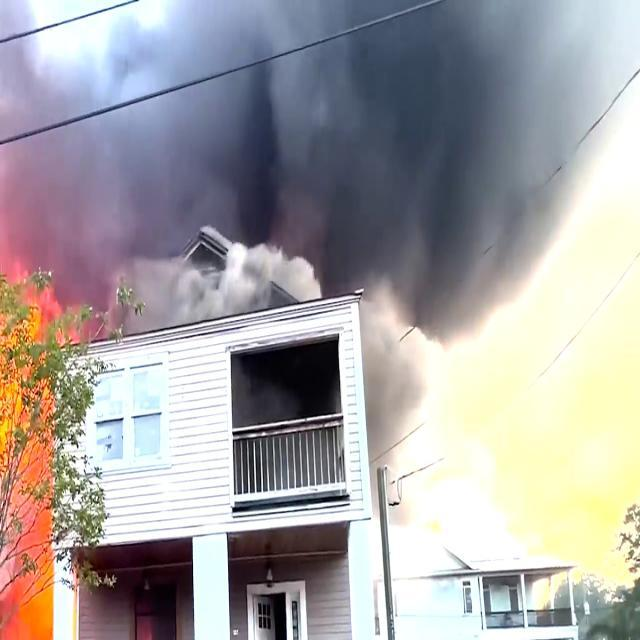Fire: (0, 307, 52, 640)
Smoke: (0, 0, 608, 292), (376, 323, 437, 536)
